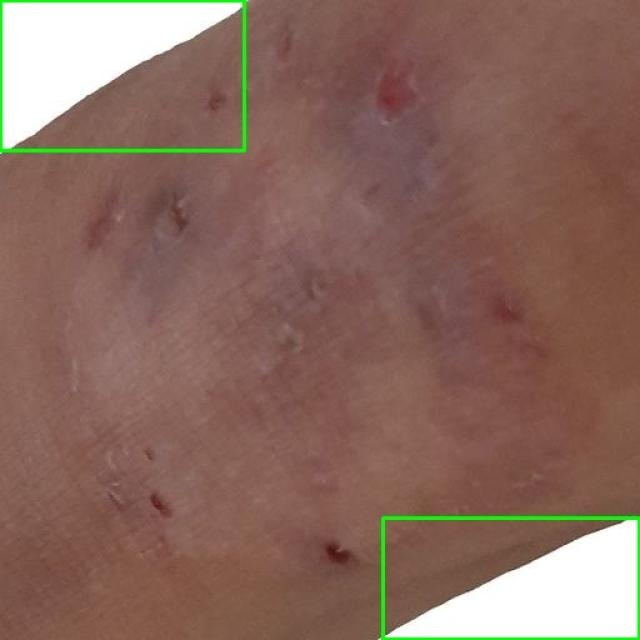Tinea Corporis: (0, 0, 244, 150), (382, 518, 639, 639)
